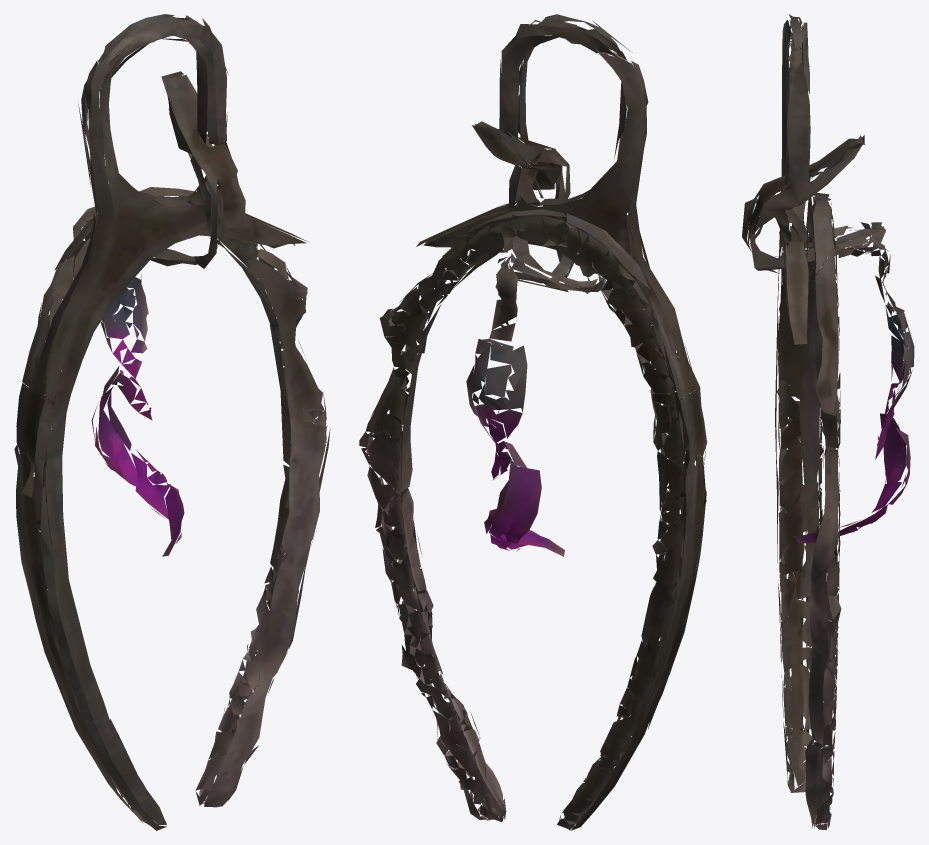
Rendered from relic-tideglass-heart.glb.
The picture shows the model from 3 angles, left to right: view 1: azimuth 30°, elevation 25°; view 2: azimuth 150°, elevation 25°; view 3: azimuth 270°, elevation 25°; orthographic projection. The views are drawn at different scales.
Visible parts, largest first — view 1: world; view 2: world; view 3: world.
Boxes of the visible parts, x1,y1,x2,y2 form: world: (14,14,330,830); world: (359,14,707,830); world: (742,14,914,830).
Bounding box in the file's own units: 0.4234 × 1 × 0.2035.
Materials: 1 (1 with a texture image).
